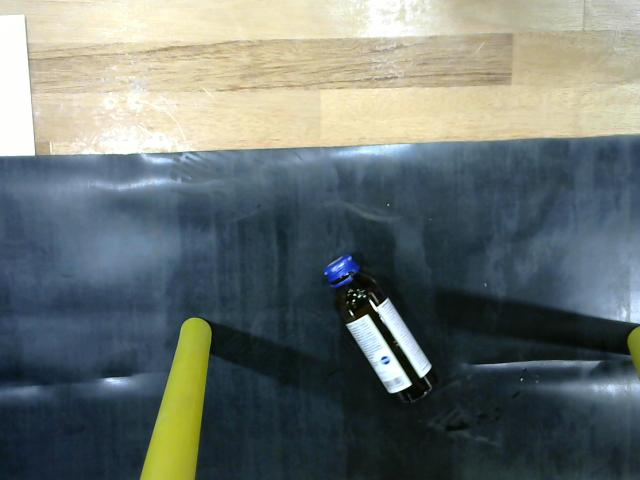glass: (307, 241, 459, 424)
